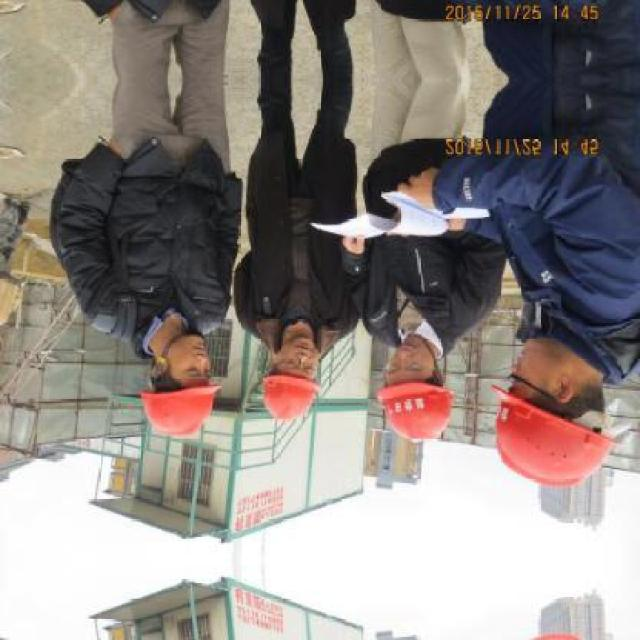safetyhelmet: (485, 349, 618, 492), (377, 333, 459, 446), (138, 343, 224, 444), (256, 327, 328, 428)
